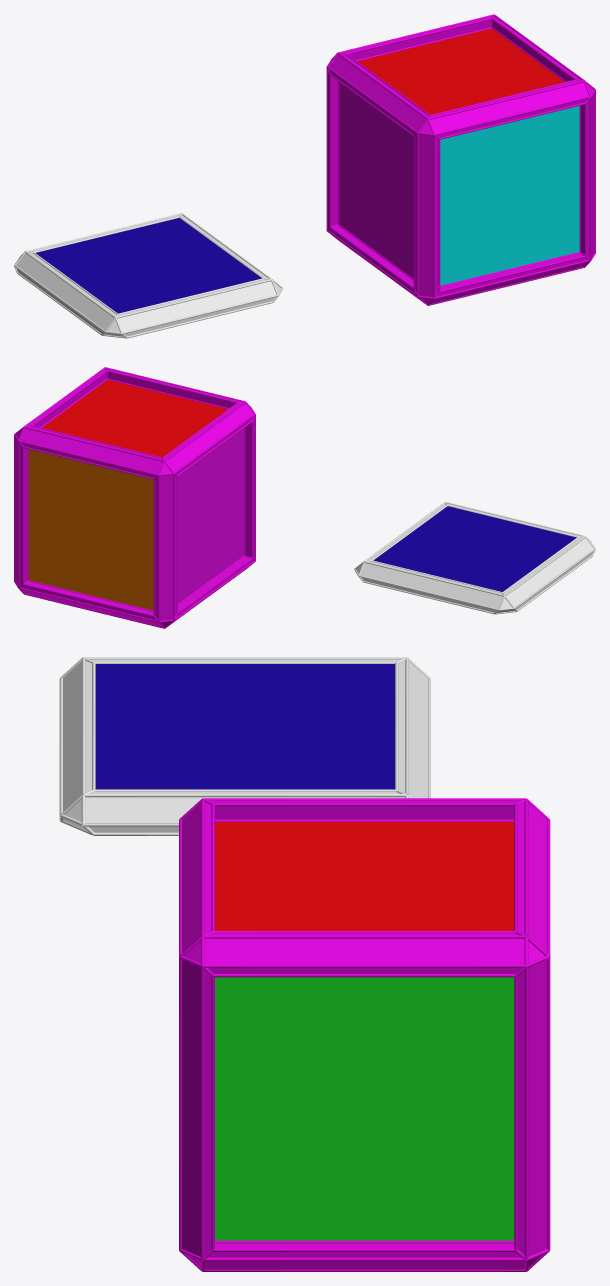
File: Cubo.fbx
The picture shows the model from 3 angles, top to bottom: view 1: azimuth 30°, elevation 25°; view 2: azimuth 150°, elevation 25°; view 3: azimuth 270°, elevation 25°; orthographic projection. The views are drawn at different scales.
Visible parts, largest first — view 1: Base, FaceE, Face, FaceD, FaceA, Flor; view 2: Base, FaceF, Face, FaceD, FaceA, Flor; view 3: FaceB, Base, Face, FaceA, Flor.
Boxes of the visible parts, x1=… form: Base: x1=326, y1=14, x2=595, y2=305; FaceE: x1=440, y1=106, x2=579, y2=285; Face: x1=36, y1=218, x2=261, y2=313; FaceD: x1=339, y1=83, x2=413, y2=278; FaceA: x1=358, y1=28, x2=564, y2=114; Flor: x1=14, y1=213, x2=283, y2=338; Base: x1=14, y1=367, x2=255, y2=628; FaceF: x1=28, y1=449, x2=153, y2=610; Face: x1=373, y1=506, x2=576, y2=591; FaceD: x1=177, y1=428, x2=243, y2=603; FaceA: x1=42, y1=380, x2=227, y2=457; Flor: x1=354, y1=502, x2=595, y2=614; FaceB: x1=215, y1=977, x2=514, y2=1240; Base: x1=179, y1=798, x2=550, y2=1271; Face: x1=95, y1=664, x2=394, y2=789; FaceA: x1=215, y1=822, x2=514, y2=930; Flor: x1=59, y1=657, x2=430, y2=835.
Bounding box in the file's own units: 592 × 202 × 267.
